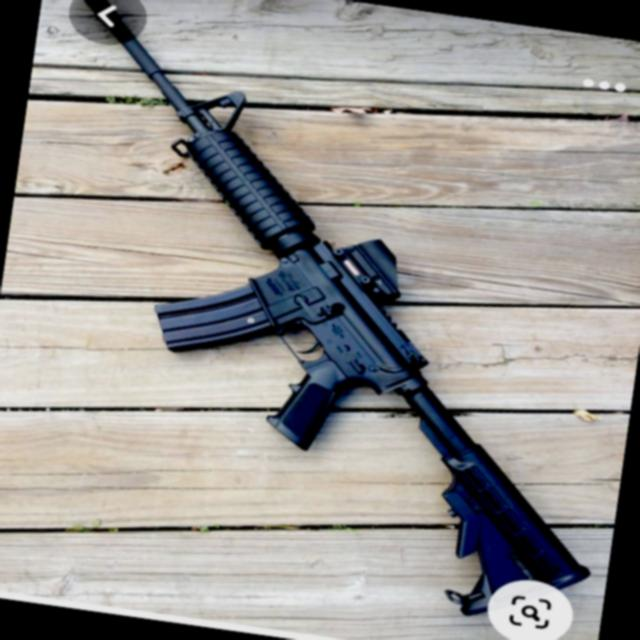m16: (47, 68, 607, 532)
